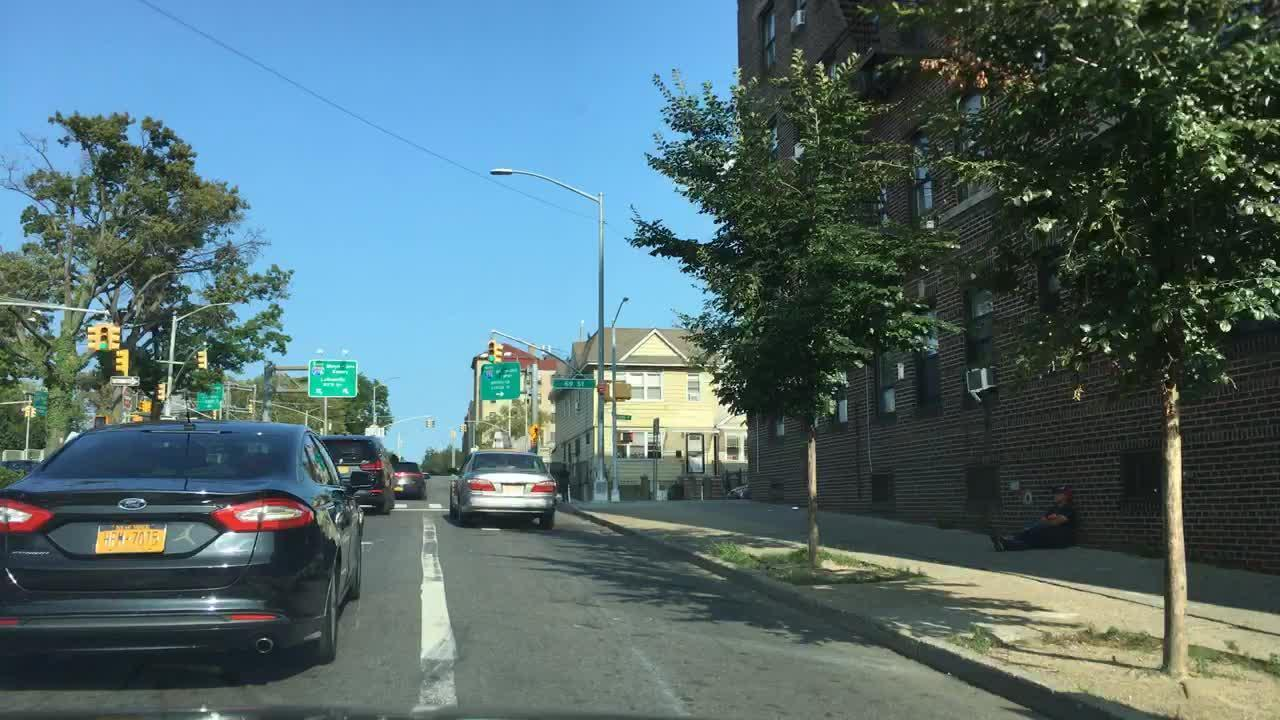ford: (116, 497, 147, 511)
